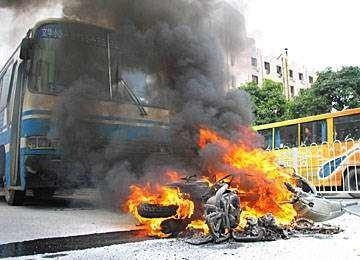fire: (124, 121, 302, 240)
